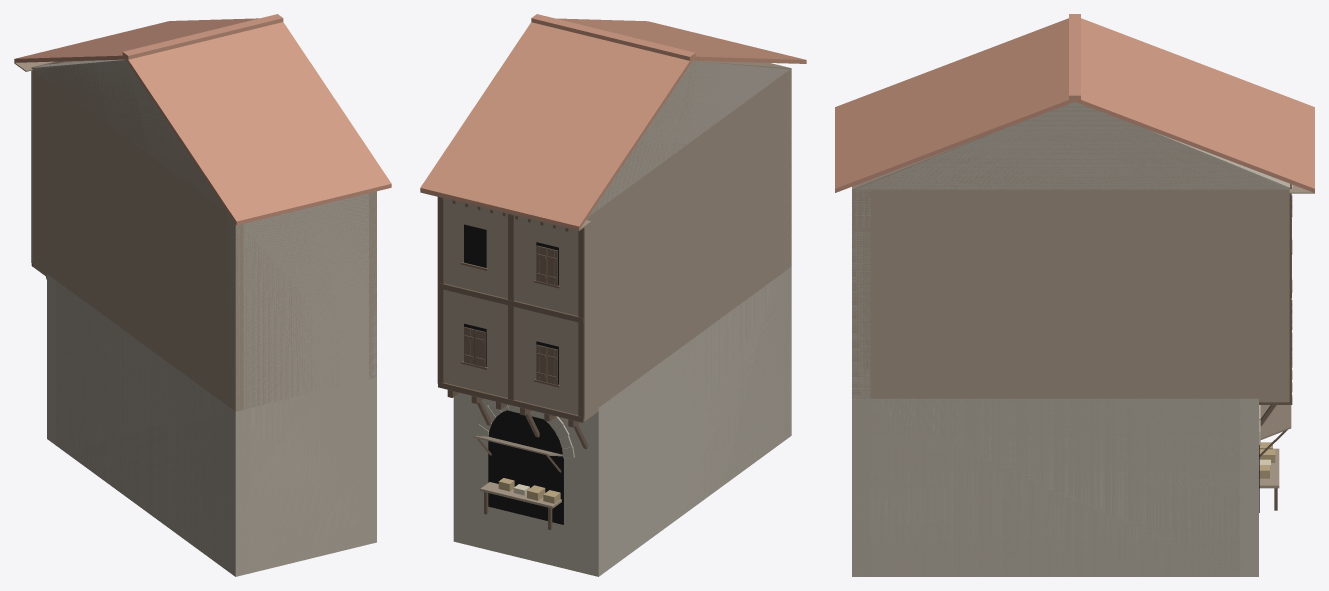
File: casa-52-2-legno.glb
3 views of the same model, side by side, from view 1: azimuth 30°, elevation 25°; view 2: azimuth 150°, elevation 25°; view 3: azimuth 270°, elevation 25° (orthographic). The views are drawn at different scales.
Parts seen in each view (by area): view 1: vicino, lontano; view 2: vicino, lontano, aperta; view 3: vicino, lontano, aperta.
Boxes of the visible parts, <box> form: vicino: <box>14,14,391,576</box>; lontano: <box>15,56,389,575</box>; vicino: <box>420,14,806,576</box>; lontano: <box>420,57,806,576</box>; aperta: <box>473,436,562,529</box>; vicino: <box>835,14,1314,576</box>; lontano: <box>835,98,1314,576</box>; aperta: <box>1259,405,1291,510</box>.
Size of the model in its own units: 5.7 by 15.77 by 14.15.
